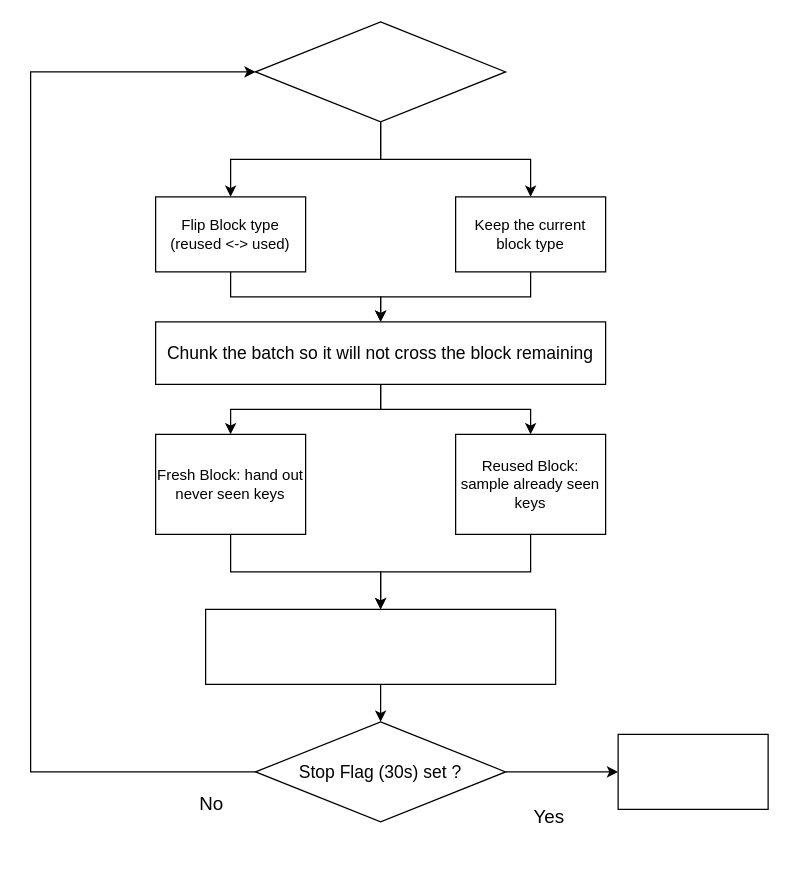
This 790x881 diagram has some shape labels left out. Here are the shapes that lost their labels. From the top down, the box of each, then its label:
(254, 21, 506, 122): End of current block ?
(204, 608, 556, 684): Return work item (HashSet of n ids)
(617, 733, 768, 809): Stop the benchmark
